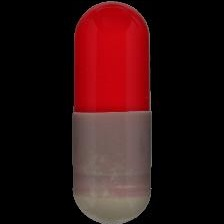0093-3145: (0, 0, 224, 224)
